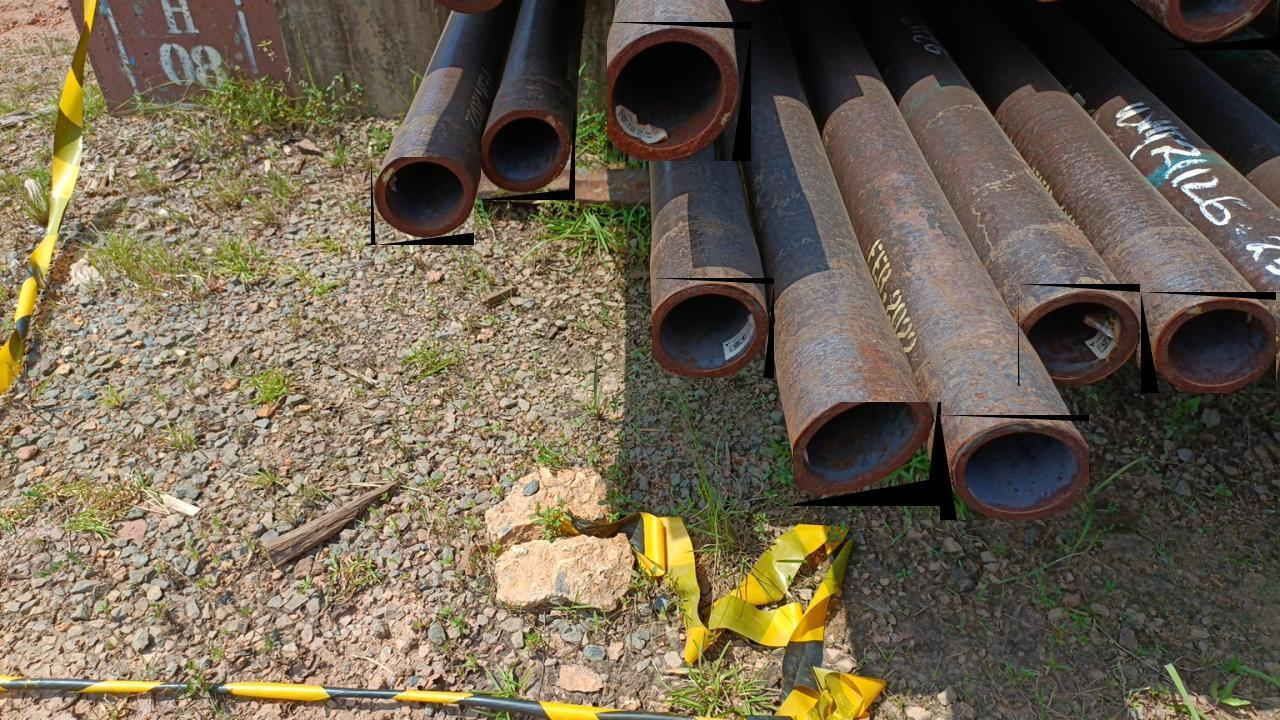pipe: (607, 22, 751, 161), (940, 415, 1089, 520), (793, 402, 941, 506), (1141, 292, 1276, 393), (1018, 284, 1140, 386), (651, 278, 774, 378), (371, 157, 474, 245), (481, 110, 575, 200), (1162, 0, 1280, 50)
